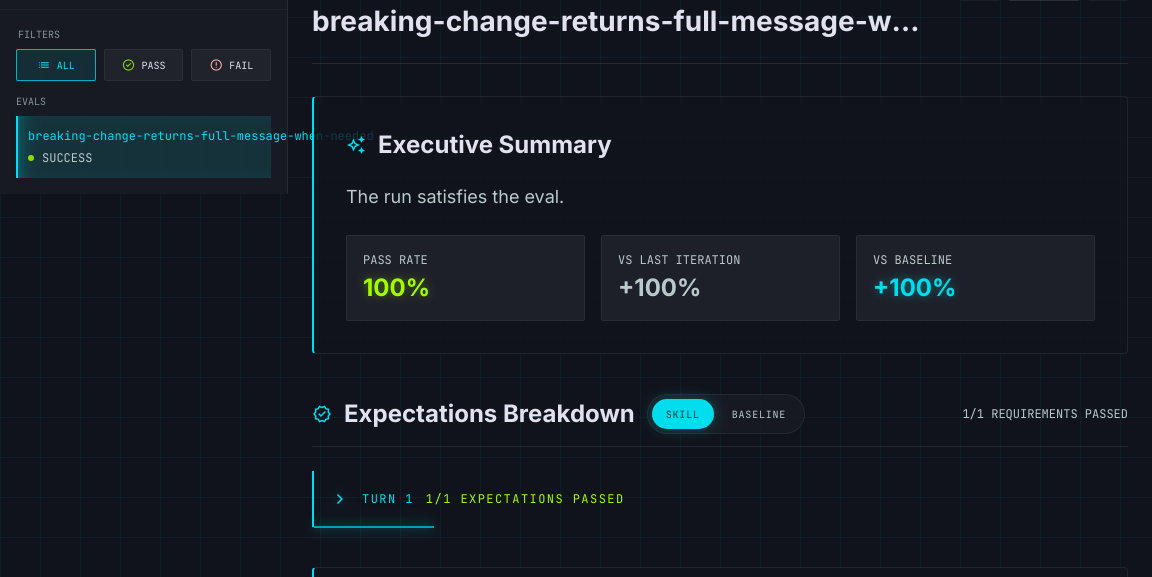
Test case: switches the execution history and metadata between skill and baseline results
The width and height of the screenshot is (1152, 577).
Click the button "baseline".
click(759, 414)  # box [718,399,800,429]
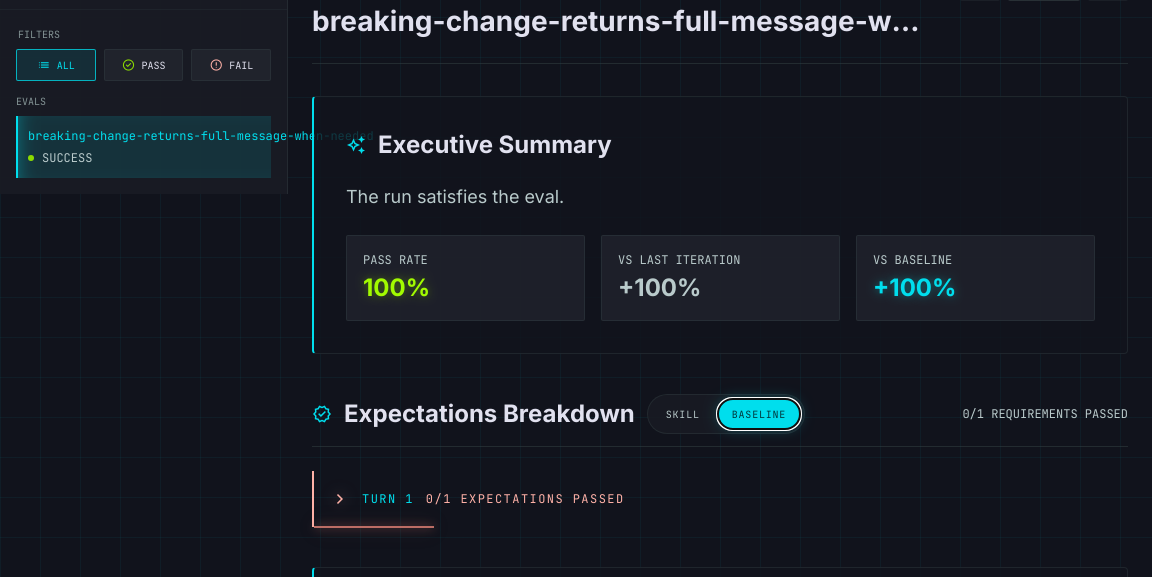
Click the button "skill".
click(683, 414)  # box [652,399,714,429]
(page scrolled)
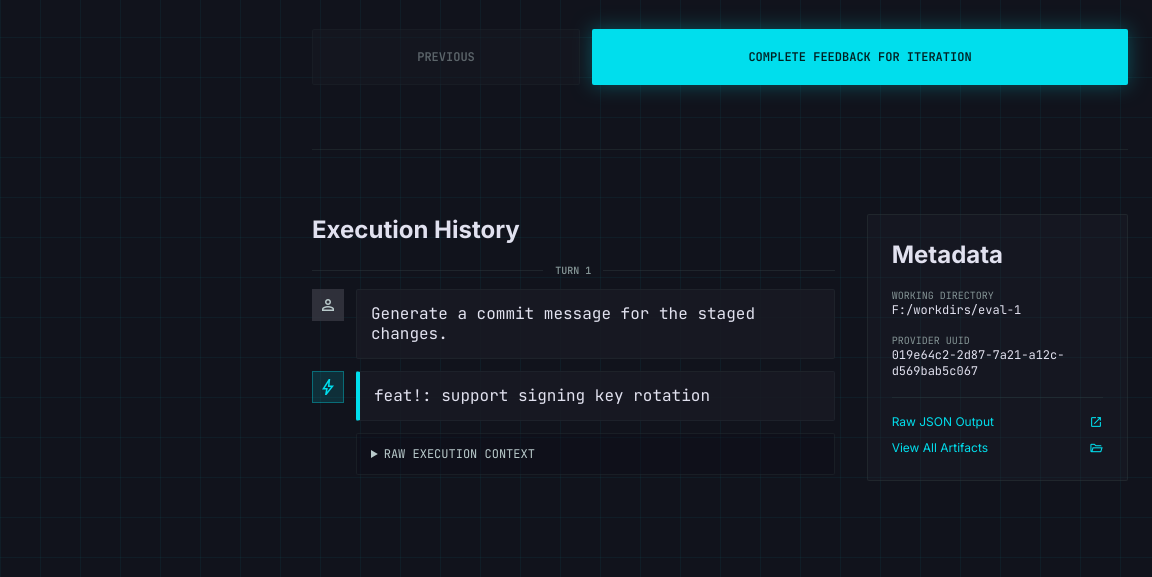
Check: the text "019e64c2-2d87-7a21-a12c-d569bab5c067" is shown, box [892,347,1064,379]
